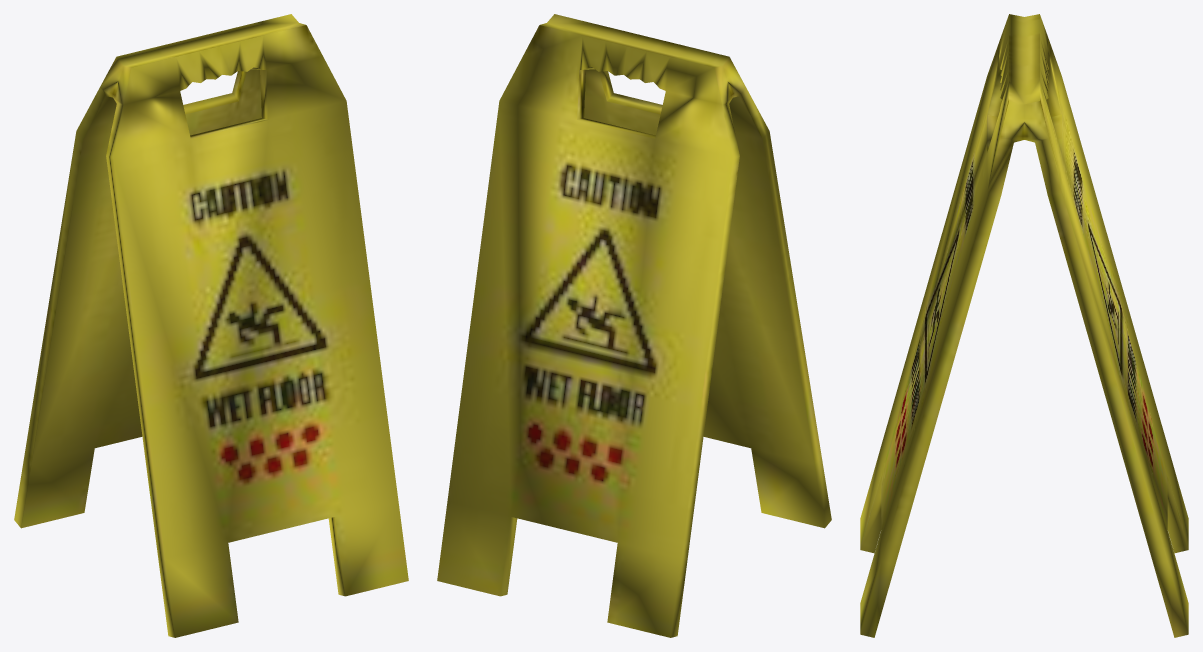
Rendered from wetsign.glb.
3 renders of one model, left to right at view 1: azimuth 30°, elevation 25°; view 2: azimuth 150°, elevation 25°; view 3: azimuth 270°, elevation 25°, orthographic.
Parts seen in each view (by area): view 1: lo; view 2: lo; view 3: lo.
Part boxes in pixels (box(x1,y1,x2,y2)): lo: box(14, 14, 408, 637); lo: box(437, 14, 831, 637); lo: box(860, 14, 1188, 637).
Size of the model in its own units: 0.3001 by 0.6295 by 0.3585.
Materials: 1 (1 with a texture image).
